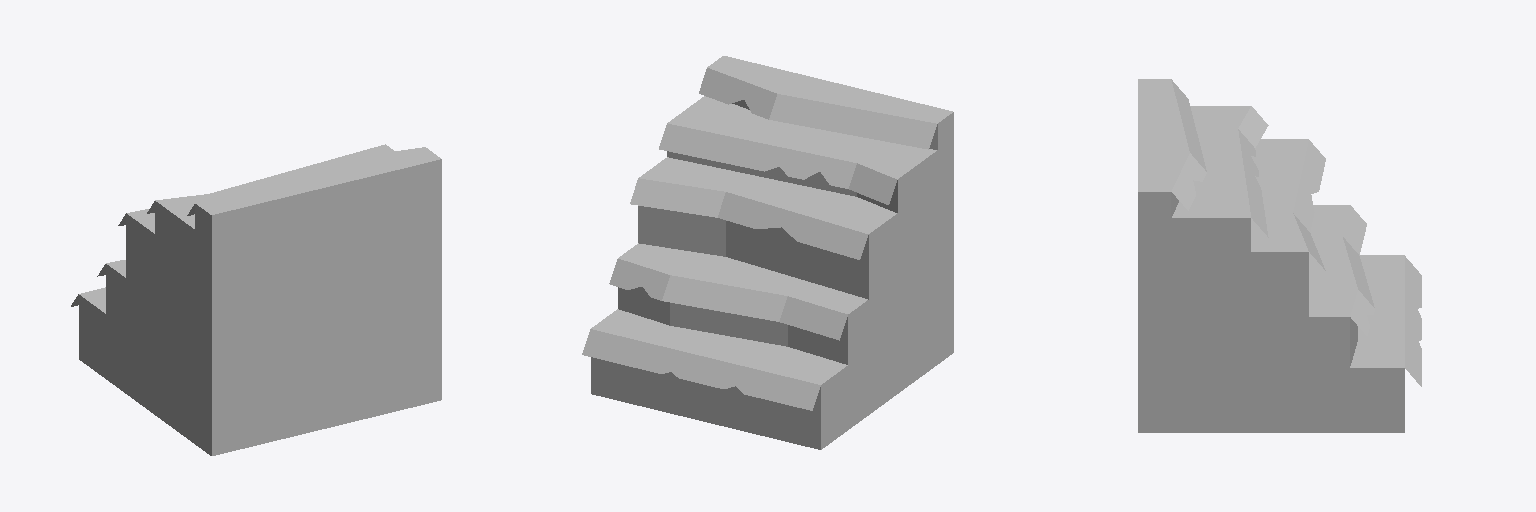
The model's file is cliffBrown_steps.obj.
The picture shows the model from 3 angles: view 1: azimuth 30°, elevation 25°; view 2: azimuth 150°, elevation 25°; view 3: azimuth 270°, elevation 25°; orthographic projection.
Visible parts, largest first — view 1: cliffBrown_steps; view 2: cliffBrown_steps; view 3: cliffBrown_steps.
Part boxes in pixels (x1,y1,x2,y2): cliffBrown_steps: (71, 144, 441, 455); cliffBrown_steps: (582, 56, 953, 449); cliffBrown_steps: (1138, 79, 1421, 432).
Bounding box in the file's own units: 10 × 10 × 10.64.